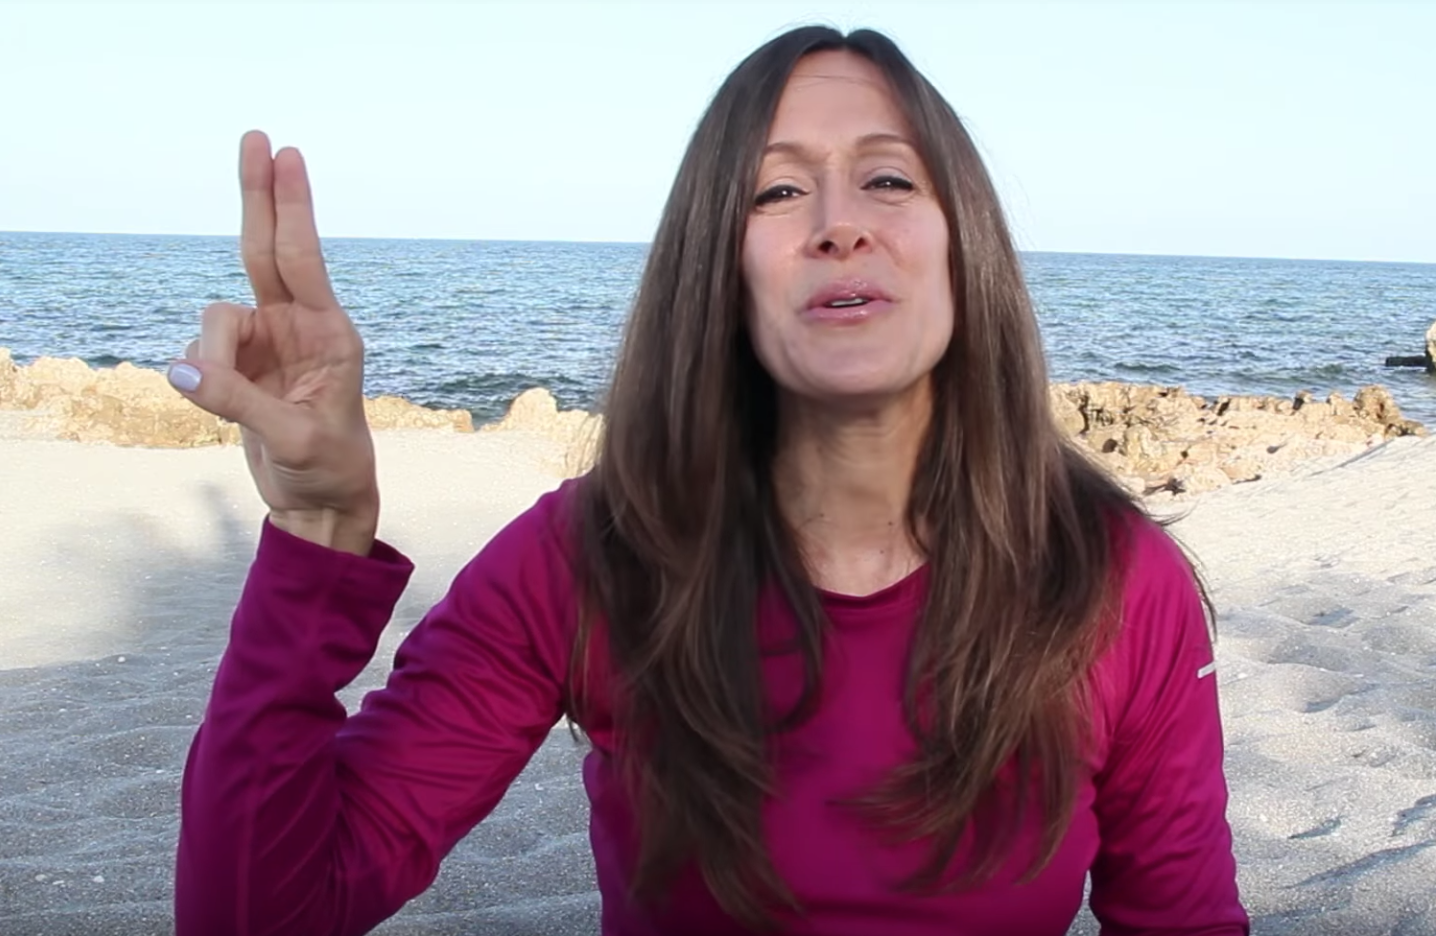u: (161, 119, 453, 585)
